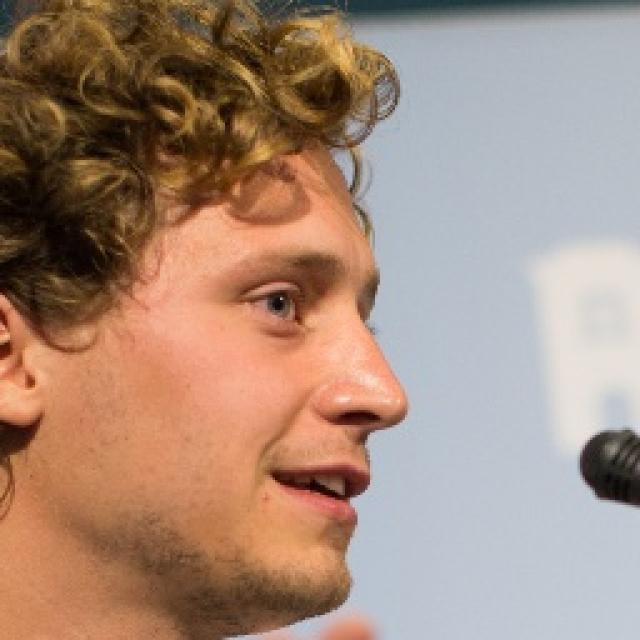earlobe: (1, 378, 40, 429)
eye: (240, 284, 308, 328)
nose: (310, 401, 406, 474)
wholeear: (0, 293, 41, 429)
